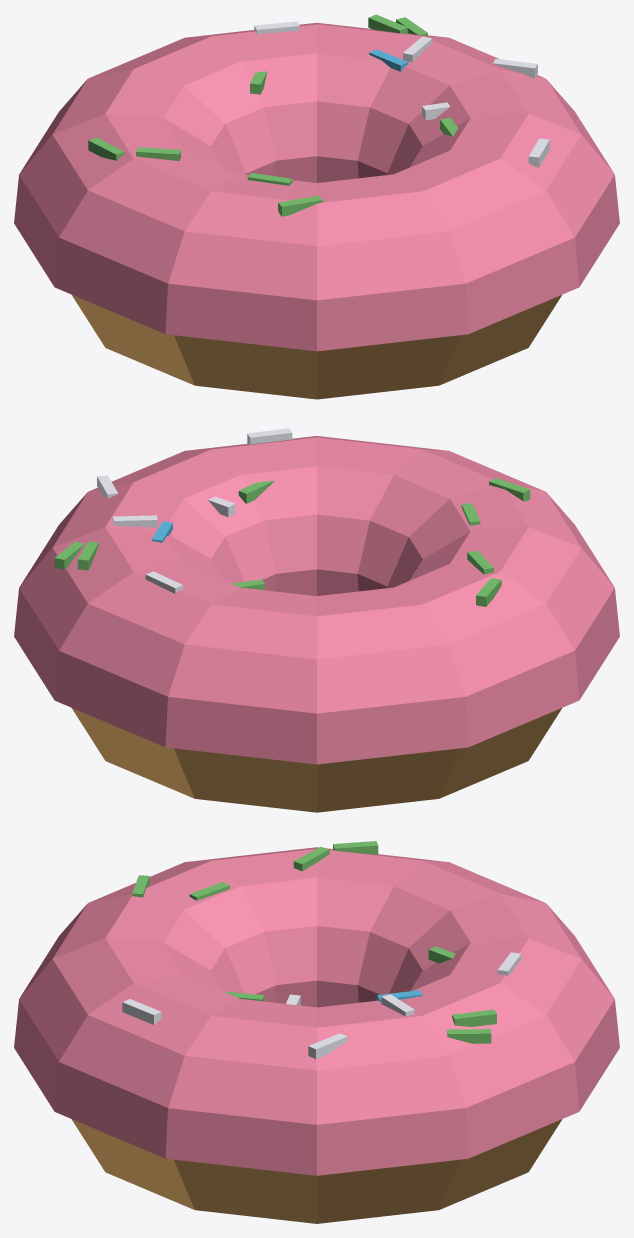
The model's file is Food_Donut.obj.
3 renders of one model, top to bottom at view 1: azimuth 30°, elevation 25°; view 2: azimuth 150°, elevation 25°; view 3: azimuth 270°, elevation 25°, orthographic.
Size of the model in its own units: 2.21 by 0.7505 by 2.21.
